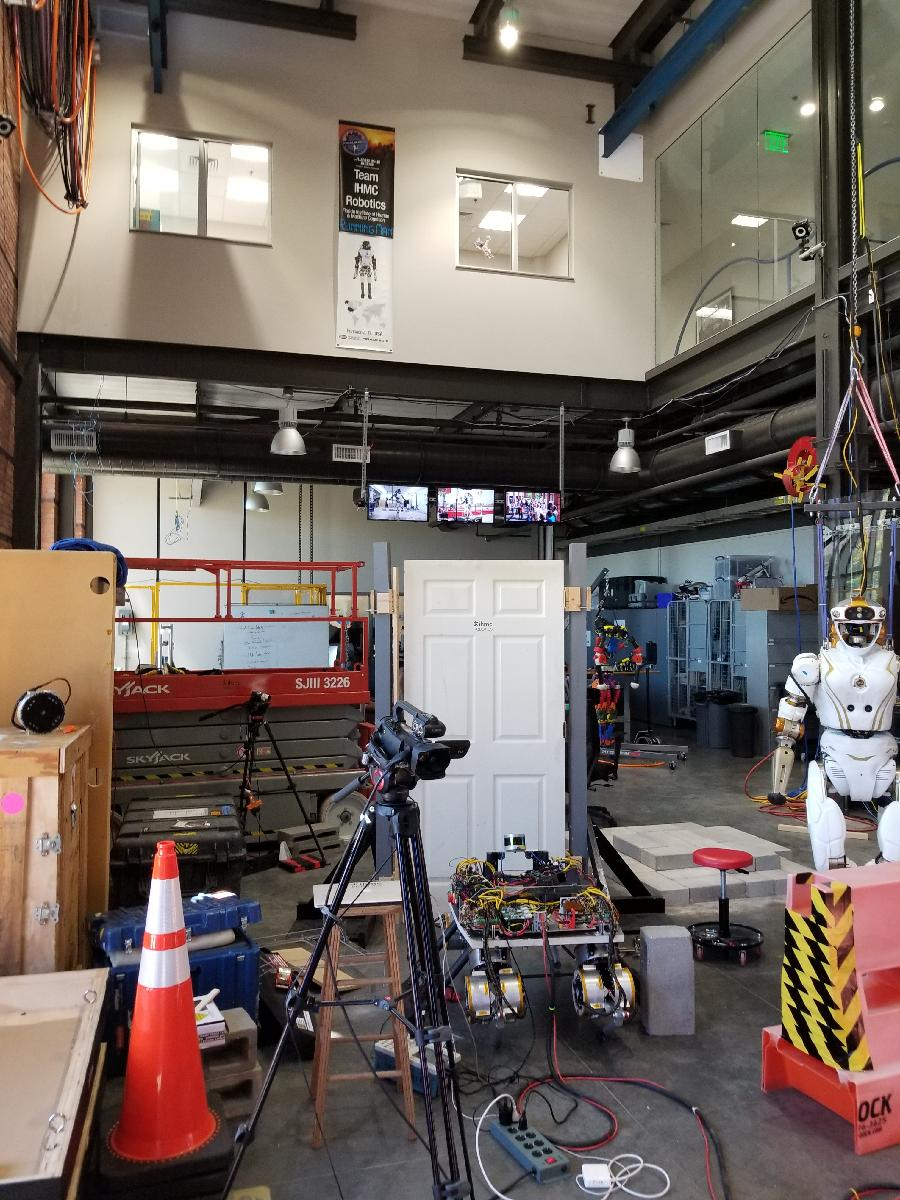door: (398, 555, 574, 910)
